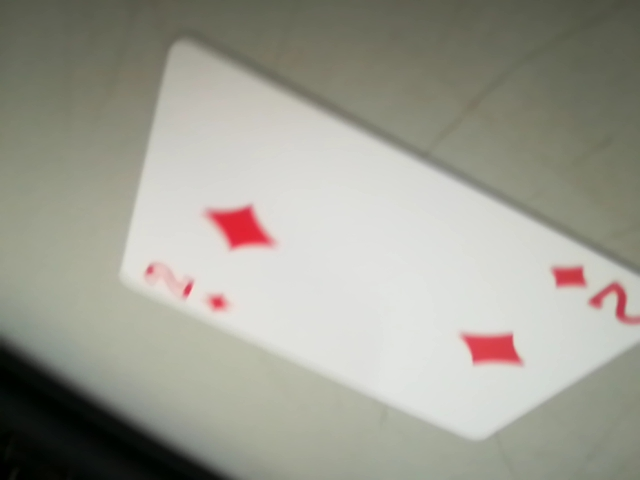fk 2: (537, 257, 640, 334), (130, 253, 241, 320)
